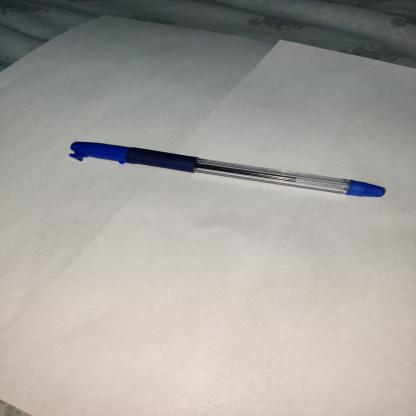Pen: (60, 124, 394, 216)
